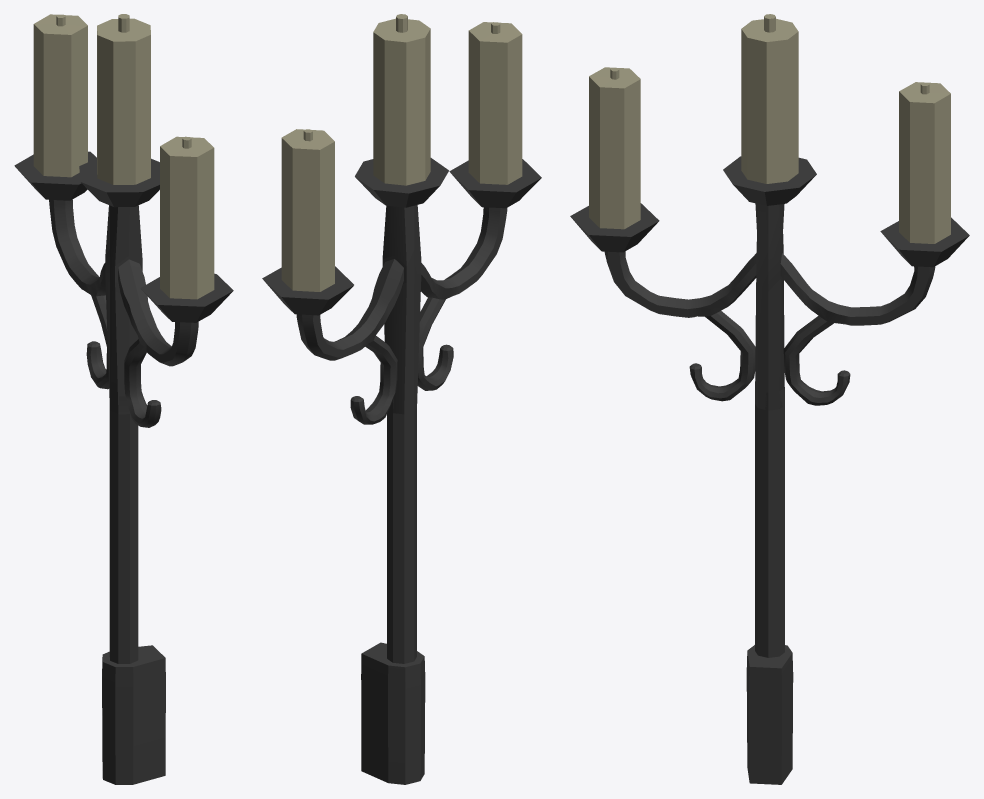
The model's file is vela.fbx.
3 views of the same model, side by side, from view 1: azimuth 30°, elevation 25°; view 2: azimuth 150°, elevation 25°; view 3: azimuth 270°, elevation 25° (orthographic).
Visible parts, largest first — view 1: pCylinder1; view 2: pCylinder1; view 3: pCylinder1.
Boxes of the visible parts, <box> form: pCylinder1: <box>14,14,233,784</box>; pCylinder1: <box>262,14,541,784</box>; pCylinder1: <box>570,14,969,784</box>.
Size of the model in its own units: 0.6007 by 4.09 by 1.97.
